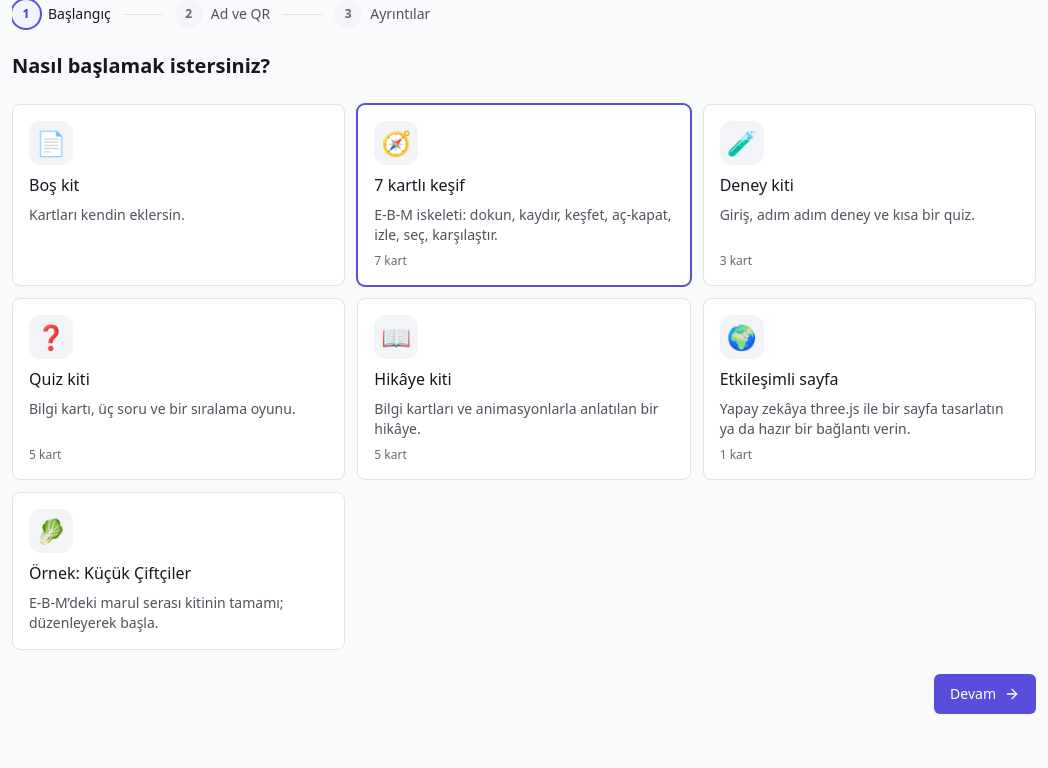
KitWizard › suggests a free address and QR prefix from the title
Click the button "Devam". click: (985, 694)
box: x1=934 y1=674 x2=1036 y2=714
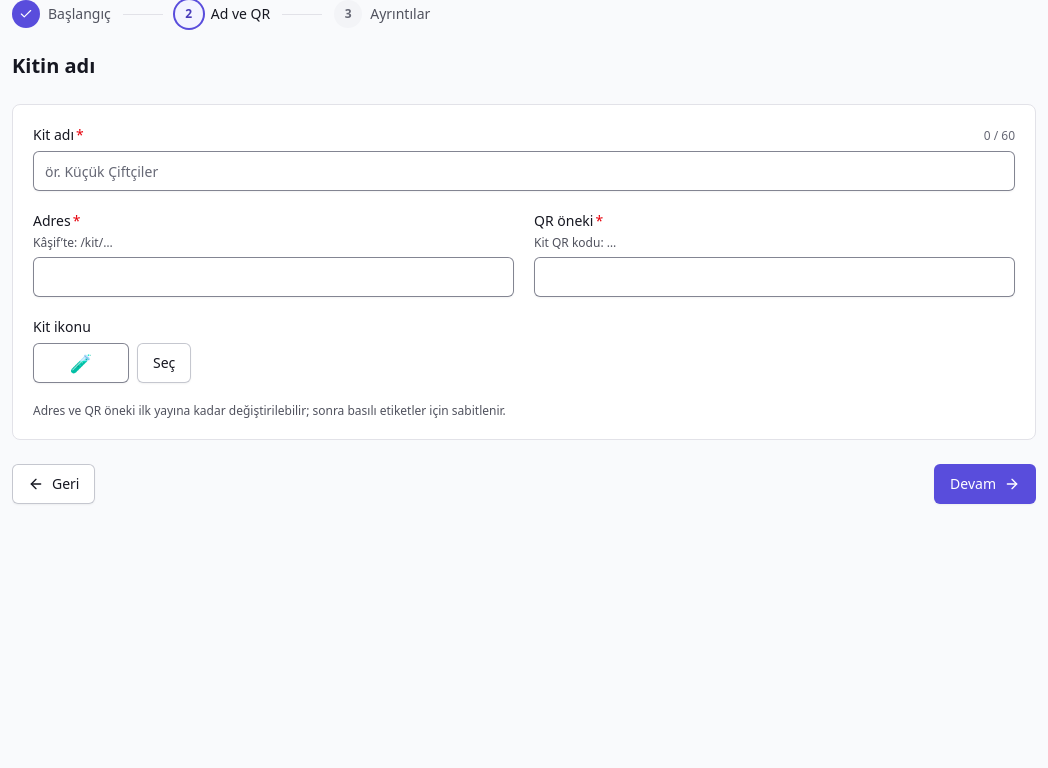
Expected: the heading reads "Kitin adı", x1=12 y1=52 x2=95 y2=79
Click the field labelled "Kit adı". click: (524, 171)
box: x1=33 y1=151 x2=1015 y2=191
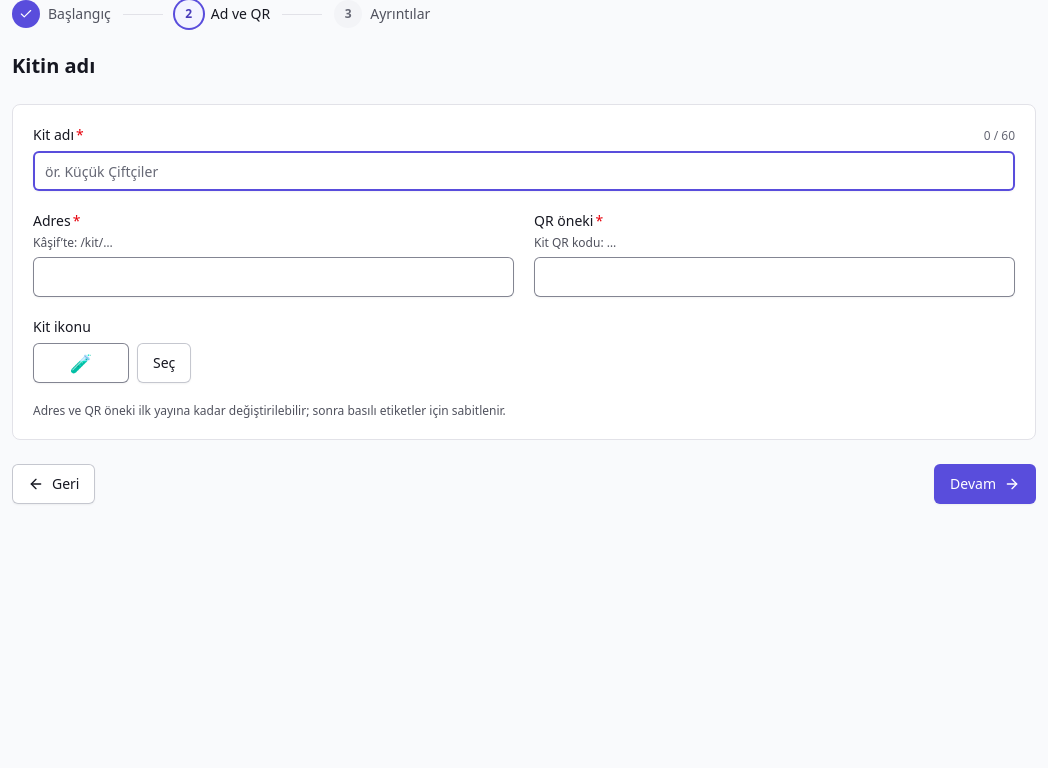
Type keys "Küçük Çiftçiler"
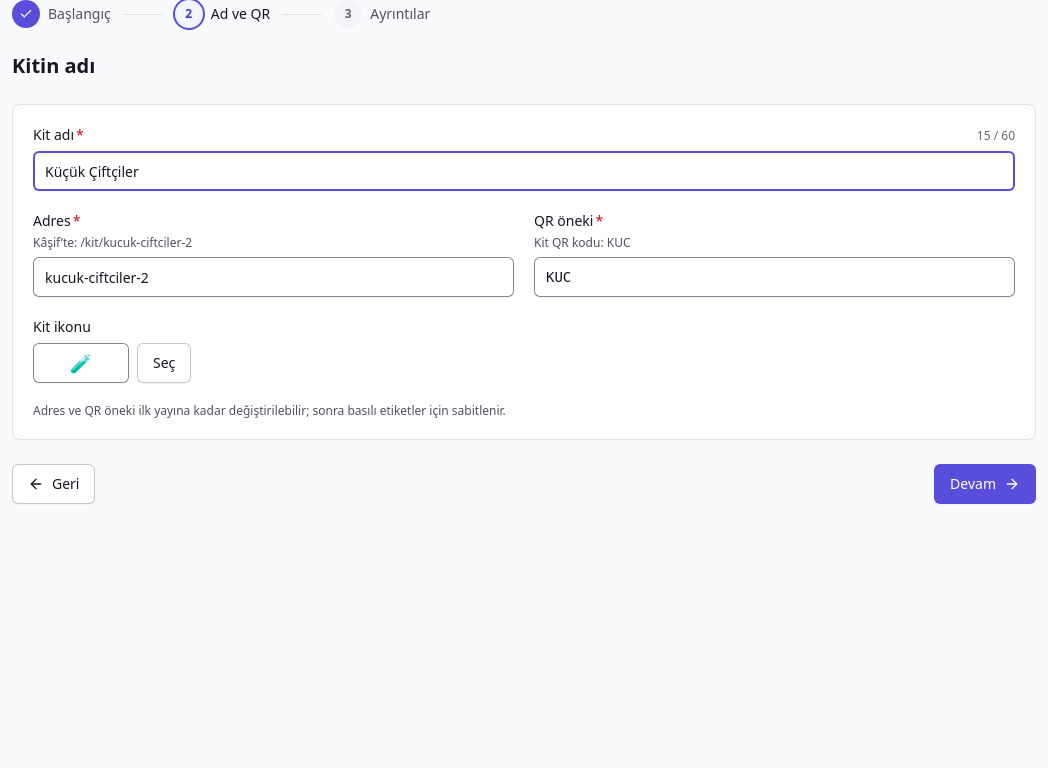
Expected: the field labelled "Adres" holds "kucuk-ciftciler-2", x1=33 y1=257 x2=514 y2=297
Expected: the field labelled "QR öneki" holds "KUC", x1=534 y1=257 x2=1015 y2=297
